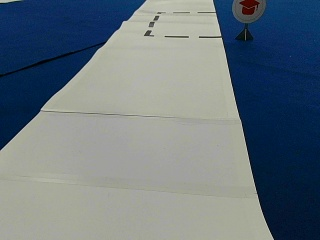school: (231, 0, 266, 23)
